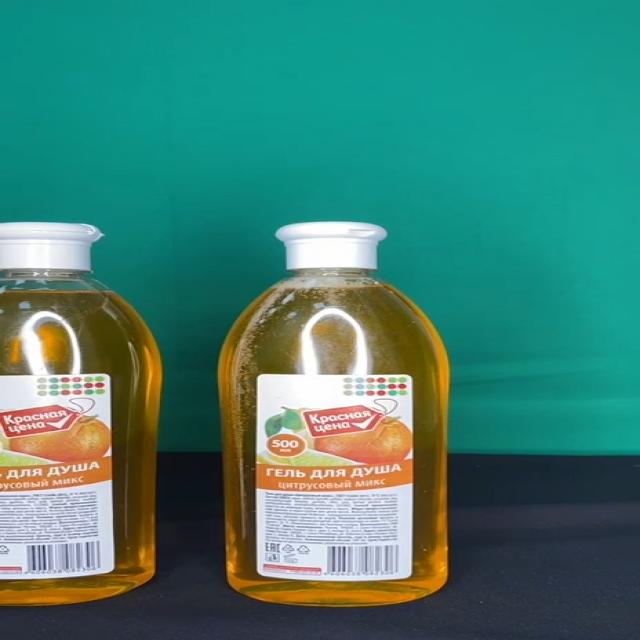Bottle: (215, 220, 451, 606)
Cap: (273, 221, 385, 269)
